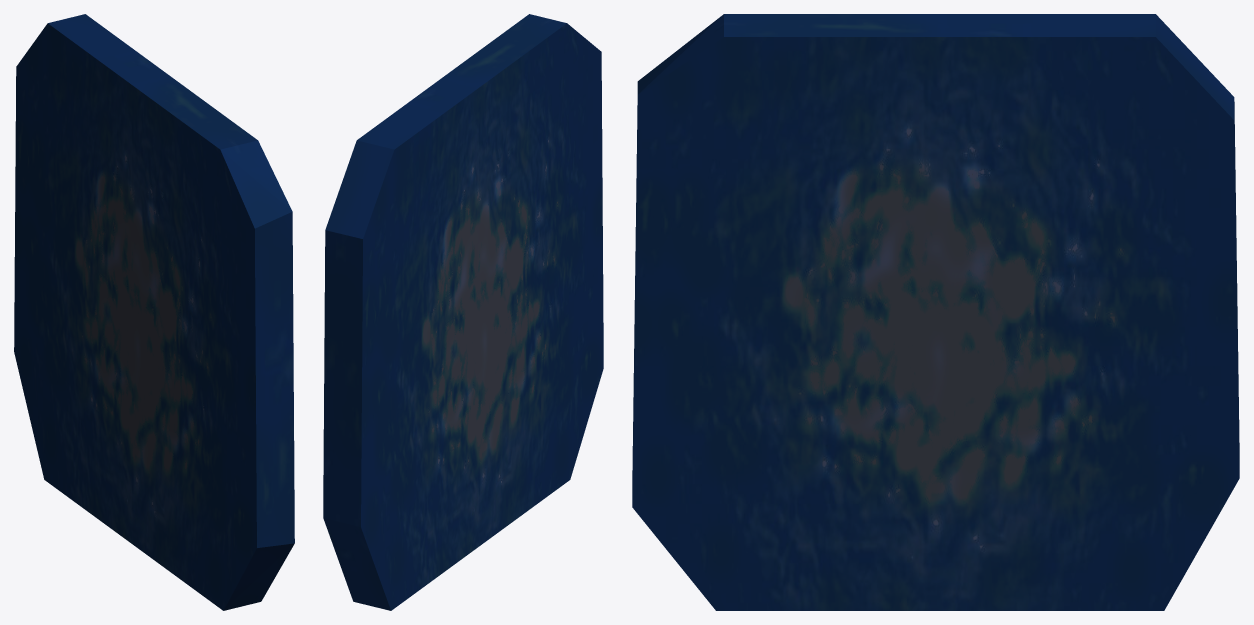
Rendered from waterPlaneStargate.obj.
3 renders of one model, left to right at view 1: azimuth 30°, elevation 25°; view 2: azimuth 150°, elevation 25°; view 3: azimuth 270°, elevation 25°, orthographic. The views are drawn at different scales.
Visible parts, largest first — view 1: WaterPlane_Cube; view 2: WaterPlane_Cube; view 3: WaterPlane_Cube.
Boxes of the visible parts, <box> form: WaterPlane_Cube: <box>14,14,294,610</box>; WaterPlane_Cube: <box>323,14,603,610</box>; WaterPlane_Cube: <box>632,14,1239,610</box>.
Bounding box in the file's own units: 1.23 × 14.23 × 13.65.
1 material, 1 textured.
